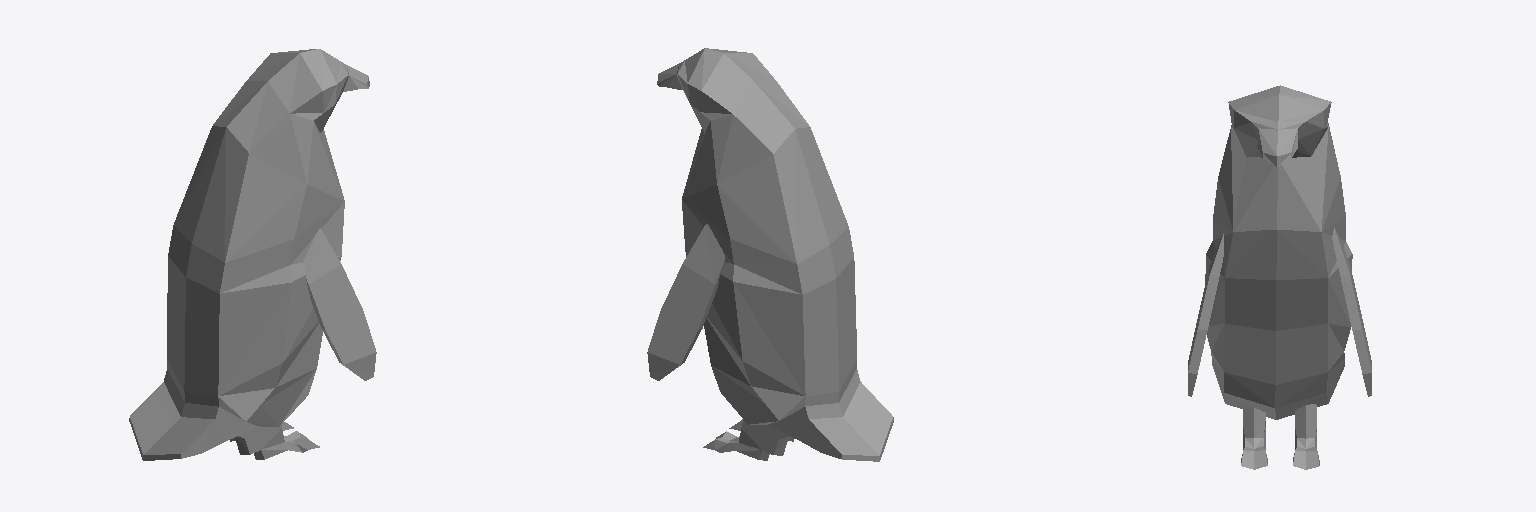
The model's file is box_storage_military.obj.
3 renders of one model, left to right at view 1: azimuth 30°, elevation 25°; view 2: azimuth 150°, elevation 25°; view 3: azimuth 270°, elevation 25°, orthographic.
Parts seen in each view (by area): view 1: Plane_010_Plane.000; view 2: Plane_010_Plane.000; view 3: Plane_010_Plane.000.
Part boxes in pixels (x1,y1,x2,y2): Plane_010_Plane.000: (129,49,376,460); Plane_010_Plane.000: (647,48,893,461); Plane_010_Plane.000: (1188,85,1371,469).
Bounding box in the file's own units: 2.01 × 3.28 × 1.43.